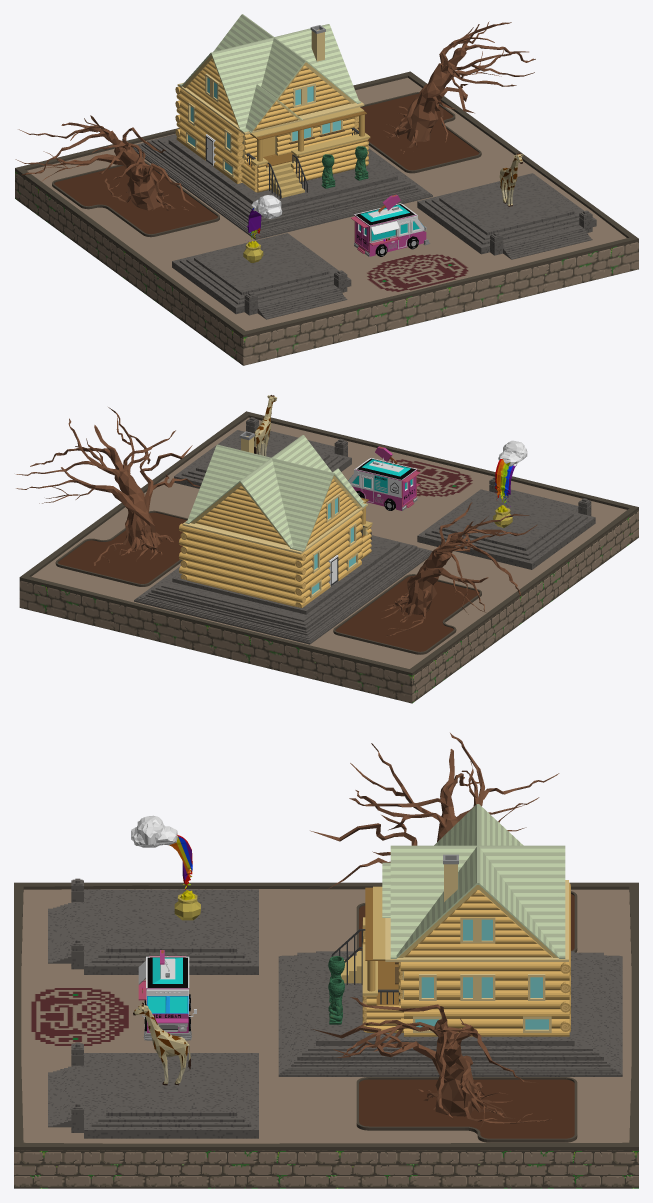
3 renders of one model, top to bottom at view 1: azimuth 30°, elevation 25°; view 2: azimuth 150°, elevation 25°; view 3: azimuth 270°, elevation 25°, orthographic. The views are drawn at different scales.
Parts seen in each view (by area): view 1: Cube.011, Cube.1516, VEHICLES_ICE_CREAM_TRUCK, OBJRANDOM_RAINBOW, ANIMAL_JIRAFA; view 2: Cube.011, Cube.1516, VEHICLES_ICE_CREAM_TRUCK, OBJRANDOM_RAINBOW, ANIMAL_JIRAFA; view 3: Cube.011, Cube.1516, VEHICLES_ICE_CREAM_TRUCK, OBJRANDOM_RAINBOW, ANIMAL_JIRAFA.
Boxes of the visible parts, x1,y1,x2,y2 form: Cube.011: [15, 21, 638, 365]; Cube.1516: [175, 14, 370, 199]; VEHICLES_ICE_CREAM_TRUCK: [351, 194, 430, 256]; OBJRANDOM_RAINBOW: [243, 195, 282, 262]; ANIMAL_JIRAFA: [499, 153, 523, 206]; Cube.011: [16, 407, 638, 703]; Cube.1516: [179, 431, 372, 607]; VEHICLES_ICE_CREAM_TRUCK: [348, 446, 420, 510]; OBJRANDOM_RAINBOW: [493, 440, 527, 527]; ANIMAL_JIRAFA: [254, 395, 276, 456]; Cube.011: [14, 733, 638, 1188]; Cube.1516: [331, 804, 570, 1036]; VEHICLES_ICE_CREAM_TRUCK: [138, 950, 196, 1040]; OBJRANDOM_RAINBOW: [131, 815, 200, 920]; ANIMAL_JIRAFA: [133, 1002, 190, 1085].
Size of the model in its own units: 5099 by 1666 by 4000.
51 materials, 6 textured.
